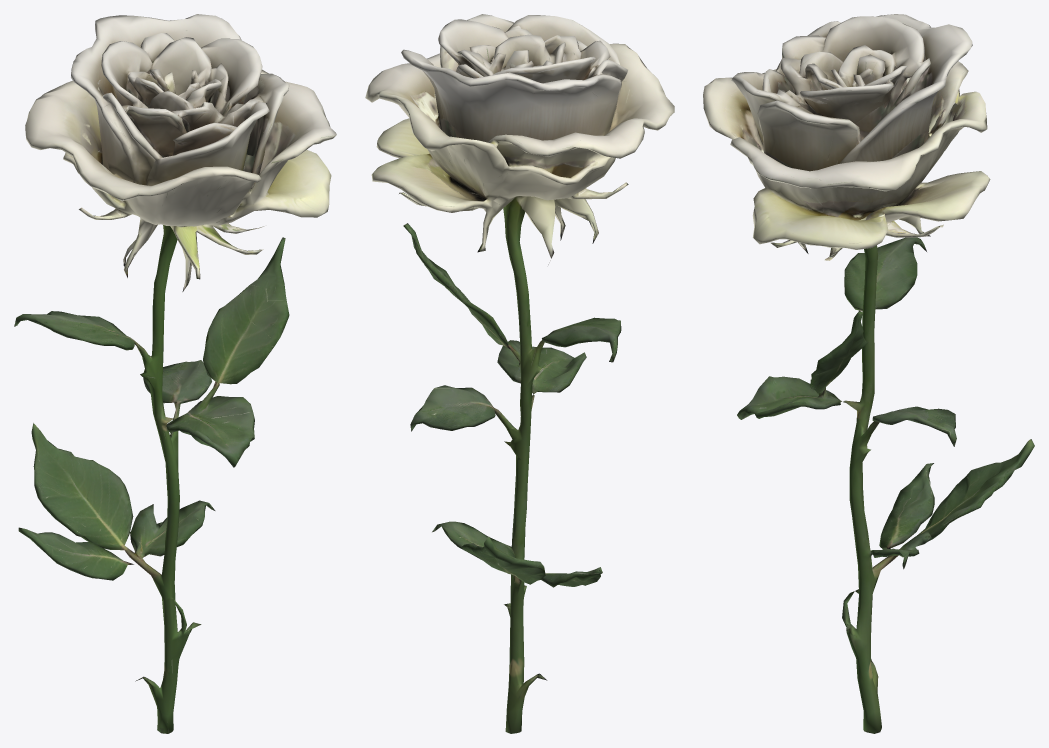
Rendered from biala_roza.glb.
The picture shows the model from 3 angles, left to right: view 1: azimuth 30°, elevation 25°; view 2: azimuth 150°, elevation 25°; view 3: azimuth 270°, elevation 25°; orthographic projection.
Visible parts, largest first — view 1: Mesh_0.001; view 2: Mesh_0.001; view 3: Mesh_0.001.
Boxes of the visible parts, x1,y1,x2,y2 form: Mesh_0.001: (14, 14, 336, 733); Mesh_0.001: (365, 14, 674, 733); Mesh_0.001: (703, 14, 1034, 733).
Size of the model in its own units: 0.2058 by 0.5 by 0.2174.
1 material, 1 textured.
